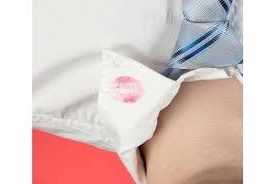lipstick: (106, 71, 143, 103)
